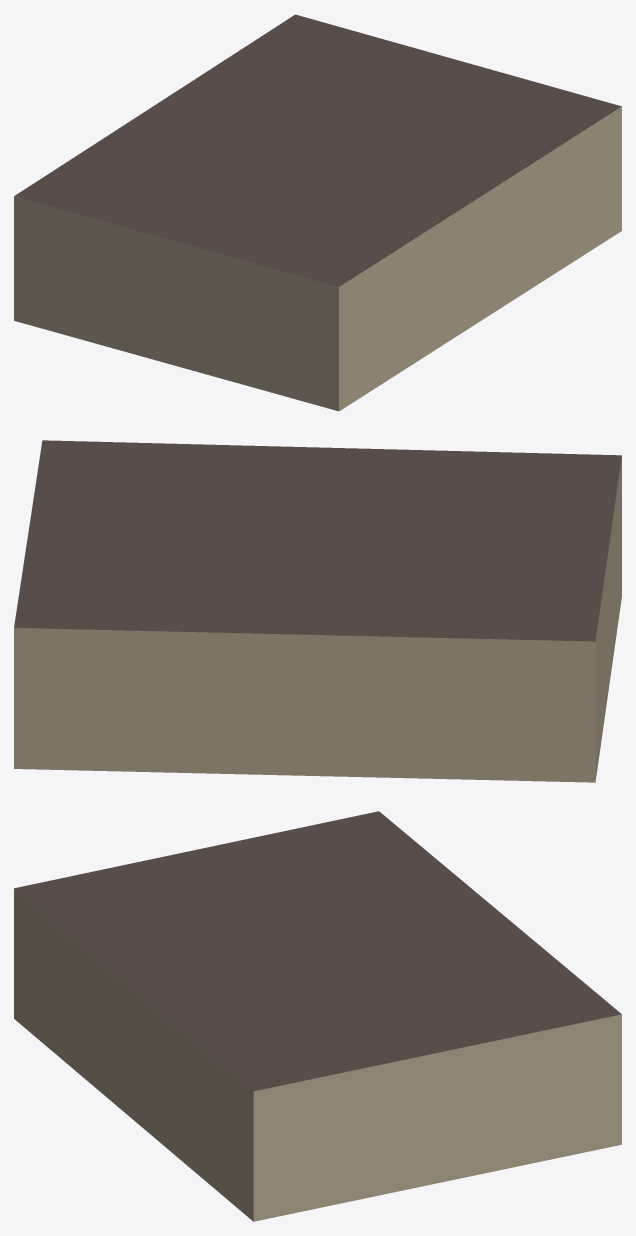
3 renders of one model, top to bottom at view 1: azimuth 30°, elevation 25°; view 2: azimuth 150°, elevation 25°; view 3: azimuth 270°, elevation 25°, orthographic. The views are drawn at different scales.
Parts seen in each view (by area): view 1: HP-w373833609; view 2: HP-w373833609; view 3: HP-w373833609.
Part boxes in pixels (x1=…): HP-w373833609: x1=14, y1=14, x2=621, y2=411; HP-w373833609: x1=14, y1=440, x2=621, y2=782; HP-w373833609: x1=14, y1=811, x2=621, y2=1221.
Bounding box in the file's own units: 41.46 × 9 × 38.02.
